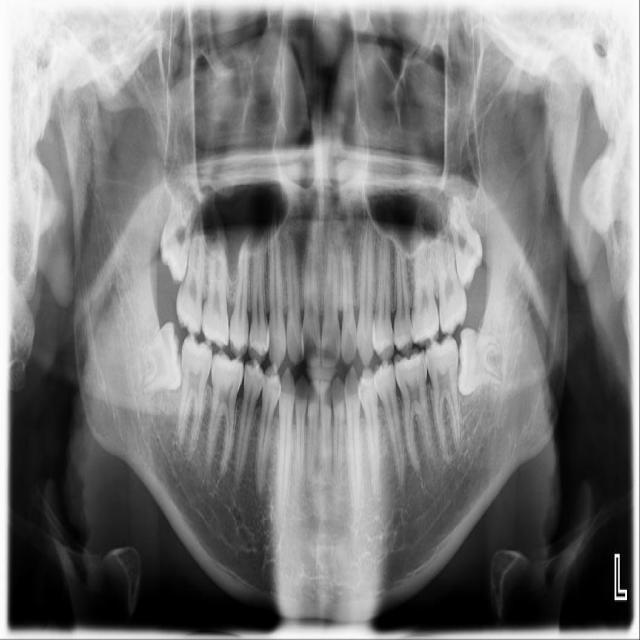impacted tooth: (136, 319, 182, 416), (161, 181, 196, 279), (460, 327, 506, 397), (451, 195, 483, 286)
